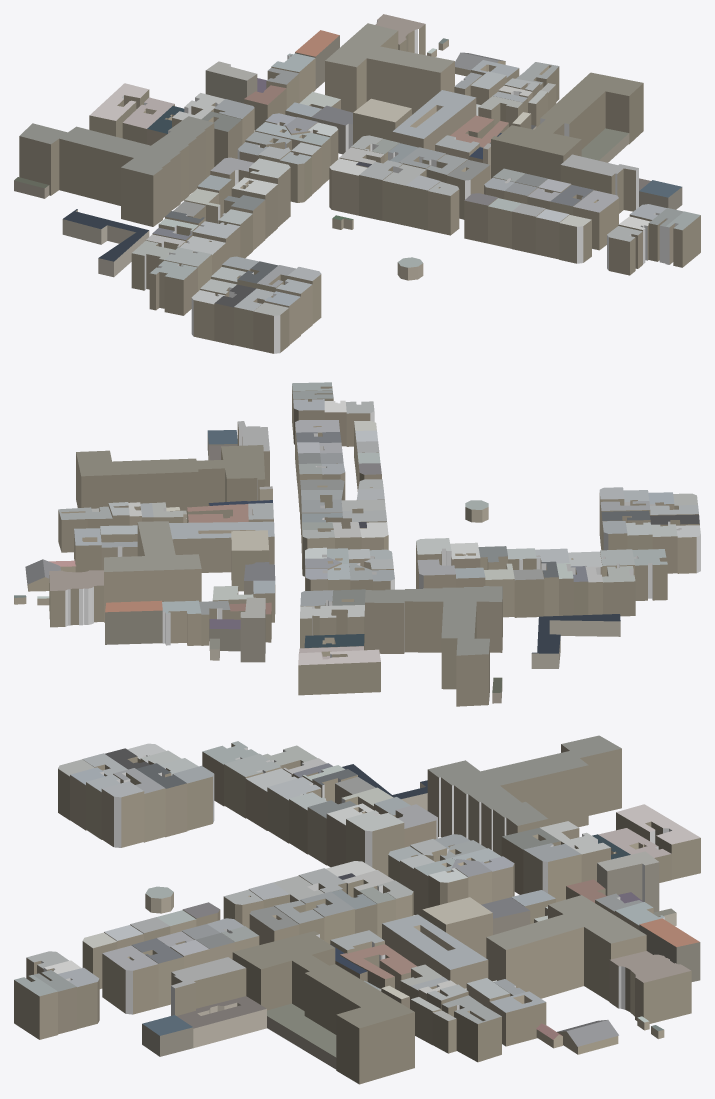
The picture shows the model from 3 angles, top to bottom: view 1: azimuth 30°, elevation 25°; view 2: azimuth 150°, elevation 25°; view 3: azimuth 270°, elevation 25°; orthographic projection. The views are drawn at different scales.
Parts seen in each view (by area): view 1: tuile; view 2: tuile; view 3: tuile.
Boxes of the visible parts, box(x1,y1,x2,y2) form: tuile: box(14, 14, 700, 353); tuile: box(14, 382, 700, 706); tuile: box(14, 735, 700, 1084).
Bounding box in the file's own units: 288 × 30.87 × 270.
